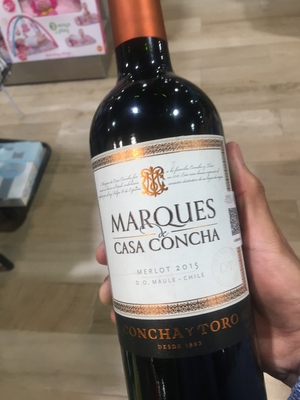marques de casa concha merlot: (85, 6, 269, 400)
